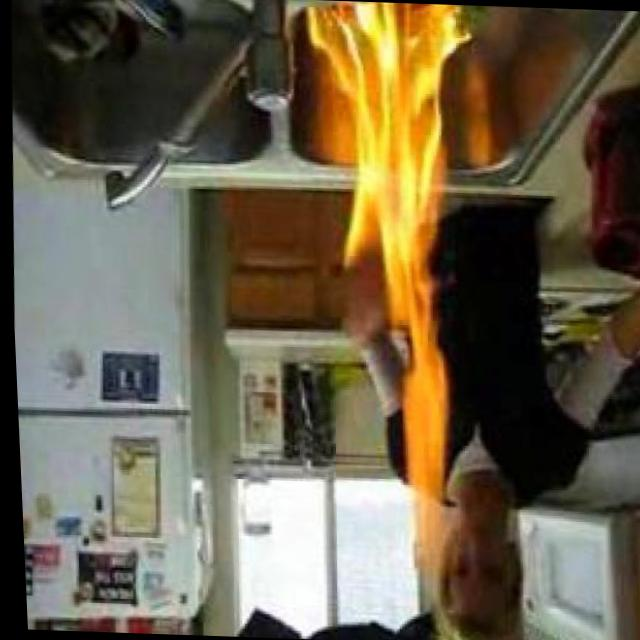Fire: (310, 0, 473, 541)
